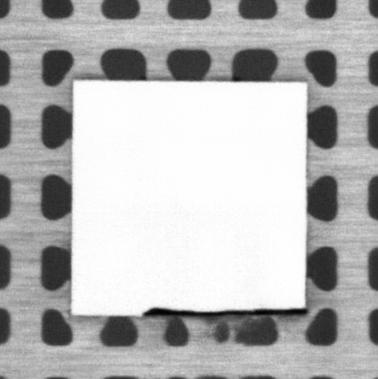DIE_BROKEN: (140, 305, 308, 318)
